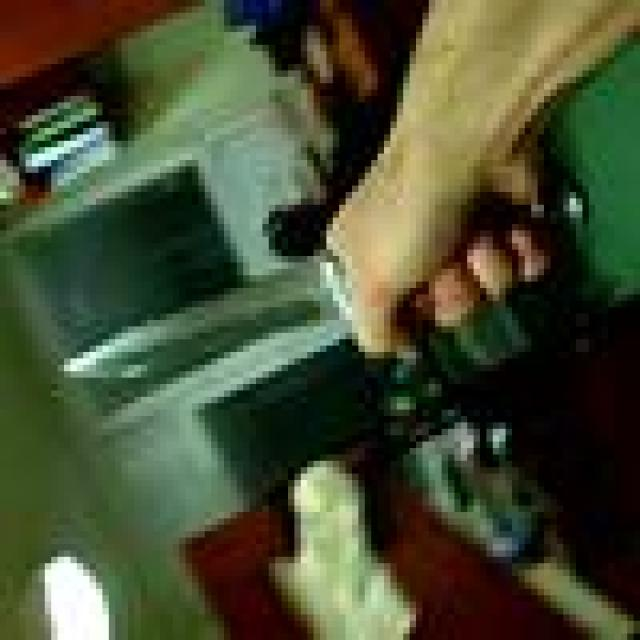knife: (63, 272, 347, 372)
